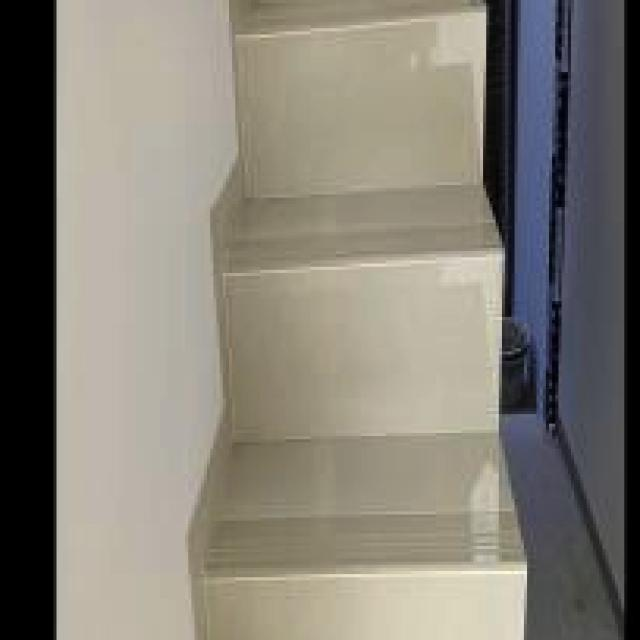upstair: (204, 13, 534, 640)
